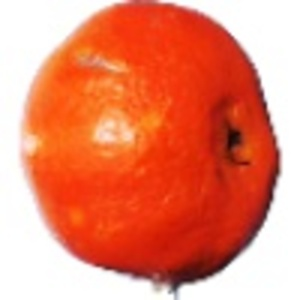tangerina: (18, 1, 284, 300)
